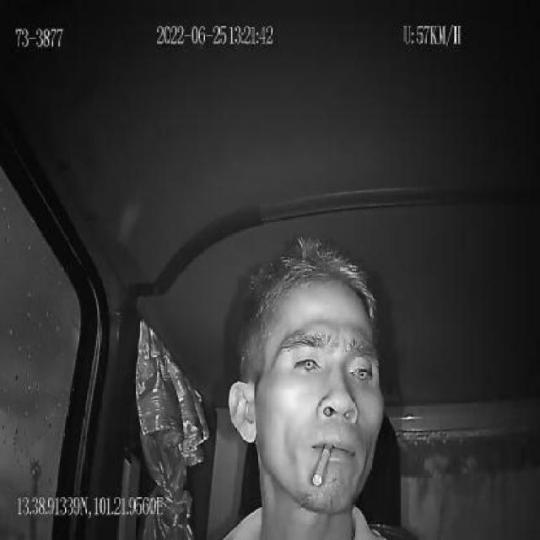smoking: (312, 441, 332, 487)
